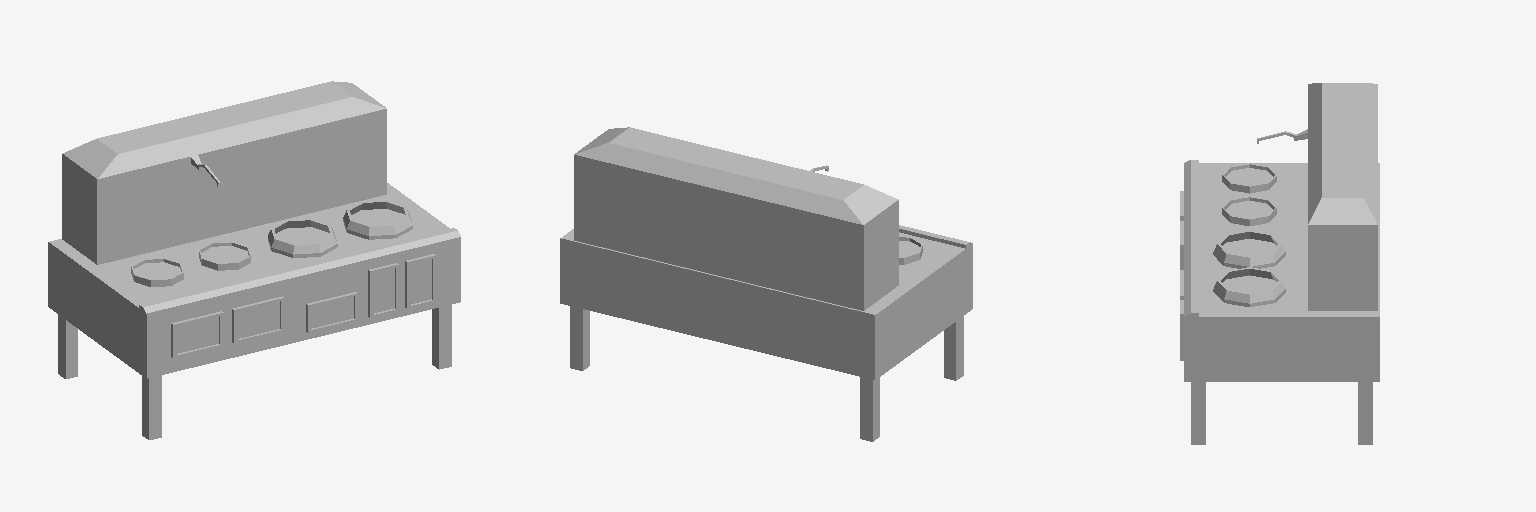
Rendered from Kitchen_4wok_comp.obj.
3 views of the same model, side by side, from view 1: azimuth 30°, elevation 25°; view 2: azimuth 150°, elevation 25°; view 3: azimuth 270°, elevation 25° (orthographic).
Visible parts, largest first — view 1: pCylinder5; view 2: pCylinder5; view 3: pCylinder5.
Boxes of the visible parts, x1,y1,x2,y2 form: pCylinder5: [48, 81, 460, 439]; pCylinder5: [560, 127, 972, 441]; pCylinder5: [1180, 83, 1379, 444].
Size of the model in its own units: 49.98 by 34.95 by 27.5.